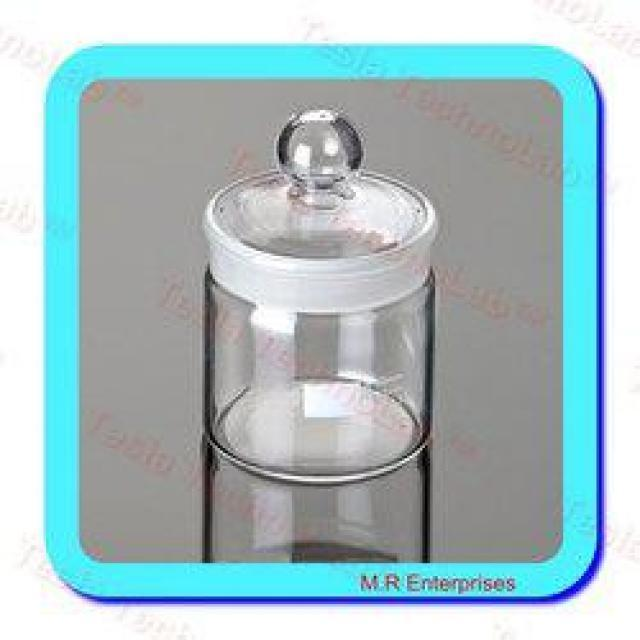glass: (190, 102, 447, 489)
